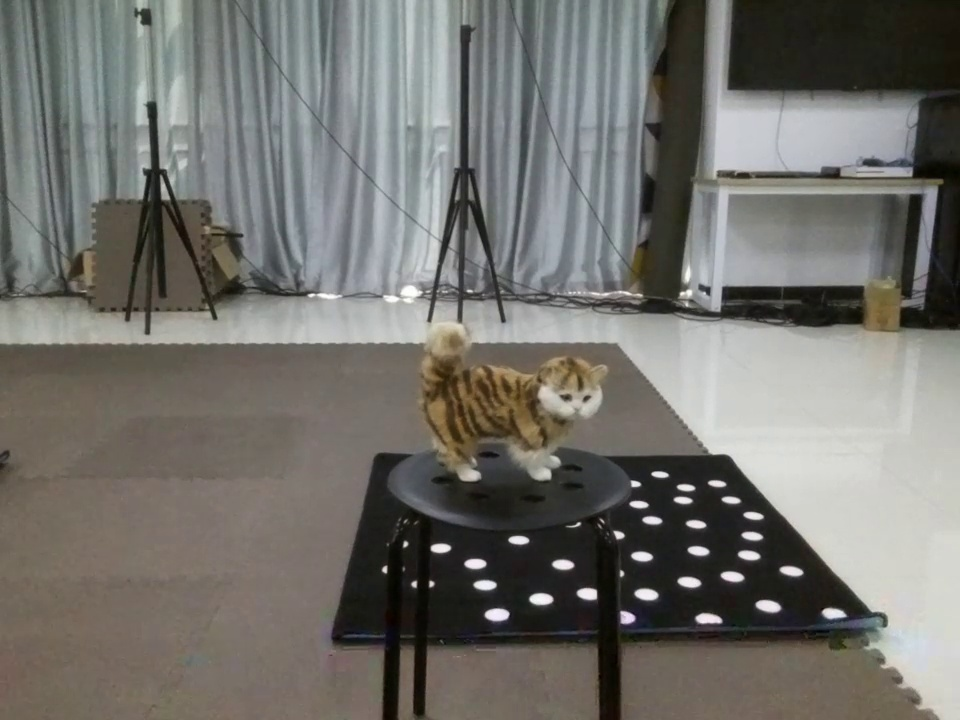cat: (389, 313, 631, 489)
